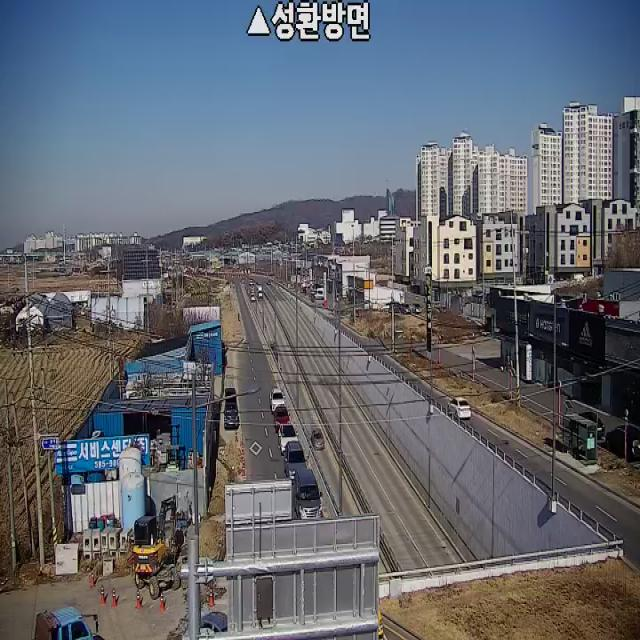Car: (193, 601, 234, 640), (294, 469, 322, 519), (605, 424, 640, 460), (573, 411, 604, 441), (284, 442, 306, 484), (278, 424, 298, 456), (448, 397, 472, 419), (274, 406, 290, 434), (270, 387, 285, 414), (311, 429, 325, 450)
Truck: (124, 492, 188, 602), (34, 607, 99, 640), (223, 388, 237, 428), (257, 284, 263, 298)
